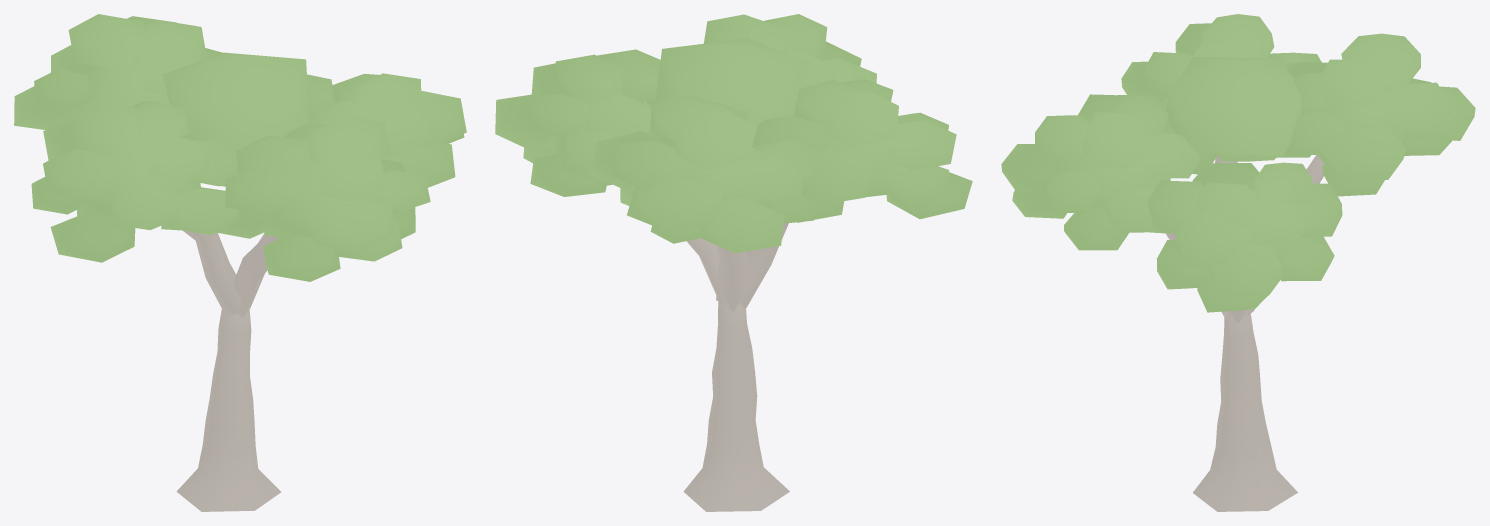
The model's file is Blender_LakeCottonwood_2_Far.glb.
3 views of the same model, side by side, from view 1: azimuth 30°, elevation 25°; view 2: azimuth 150°, elevation 25°; view 3: azimuth 270°, elevation 25° (orthographic). The views are drawn at different scales.
Parts seen in each view (by area): view 1: Blender_LakeCottonwood_2_Far; view 2: Blender_LakeCottonwood_2_Far; view 3: Blender_LakeCottonwood_2_Far.
Boxes of the visible parts, <box> form: Blender_LakeCottonwood_2_Far: <box>14,14,466,511</box>; Blender_LakeCottonwood_2_Far: <box>495,14,972,511</box>; Blender_LakeCottonwood_2_Far: <box>1001,14,1475,511</box>.
Bounding box in the file's own units: 21.32 × 20.54 × 20.34.
